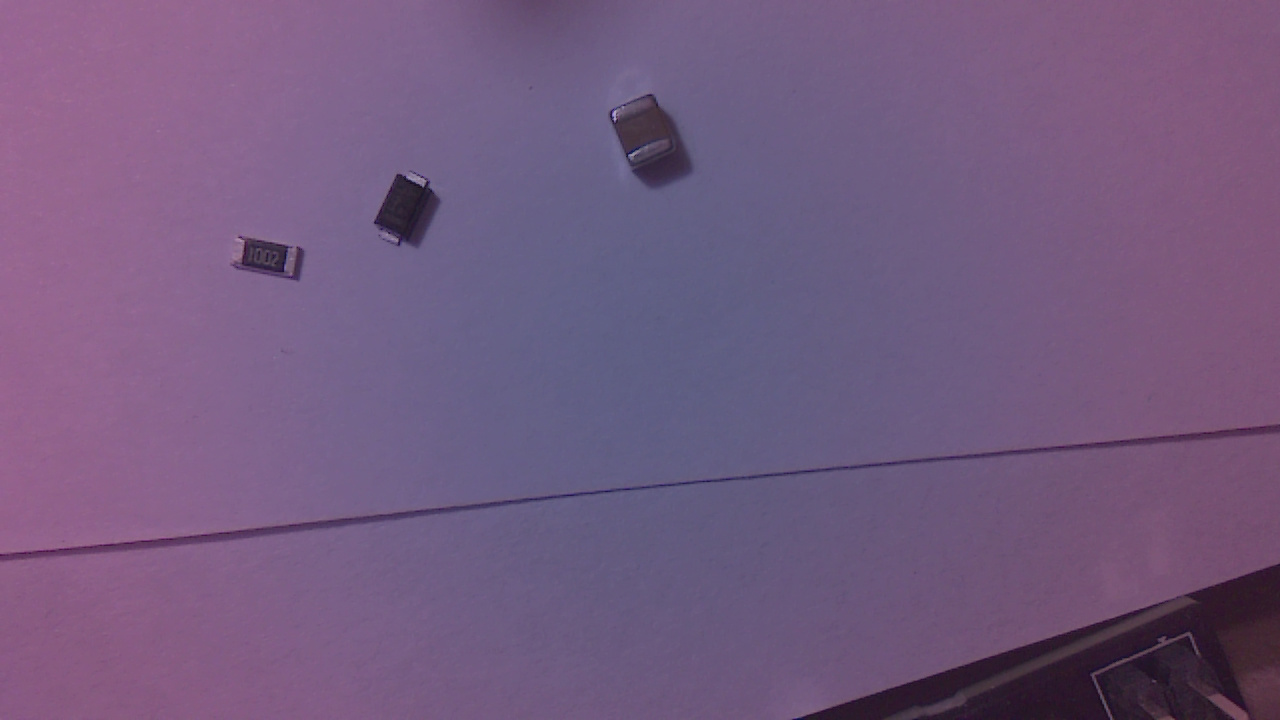Condensator: (613, 97, 684, 177)
Diode: (364, 174, 442, 253)
Resistor: (234, 238, 312, 286)
